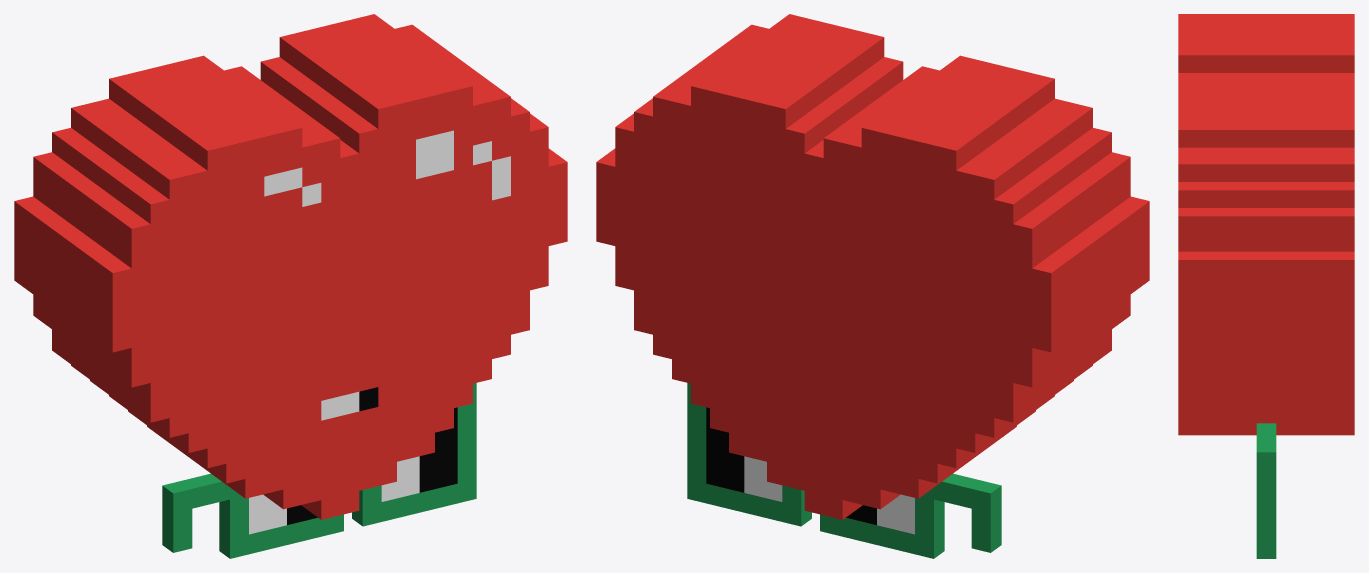
File: heart.glb
The picture shows the model from 3 angles, left to right: view 1: azimuth 30°, elevation 25°; view 2: azimuth 150°, elevation 25°; view 3: azimuth 270°, elevation 25°; orthographic projection. The views are drawn at different scales.
Visible parts, largest first — view 1: base, layer-1, layer-2, mouth; view 2: base, layer-1, layer-2; view 3: base, layer-1.
Boxes of the visible parts, left/top/right/bottom form: base: left=14, top=14, right=567, bottom=519; layer-1: left=162, top=383, right=476, bottom=558; layer-2: left=249, top=407, right=457, bottom=534; mouth: left=321, top=387, right=378, bottom=420; base: left=596, top=14, right=1149, bottom=519; layer-1: left=687, top=383, right=1001, bottom=558; layer-2: left=706, top=407, right=914, bottom=534; base: left=1178, top=14, right=1354, bottom=435; layer-1: left=1256, top=423, right=1276, bottom=558.
Size of the model in its own units: 24 by 23 by 9.
Materials: 7 (7 with a texture image).
